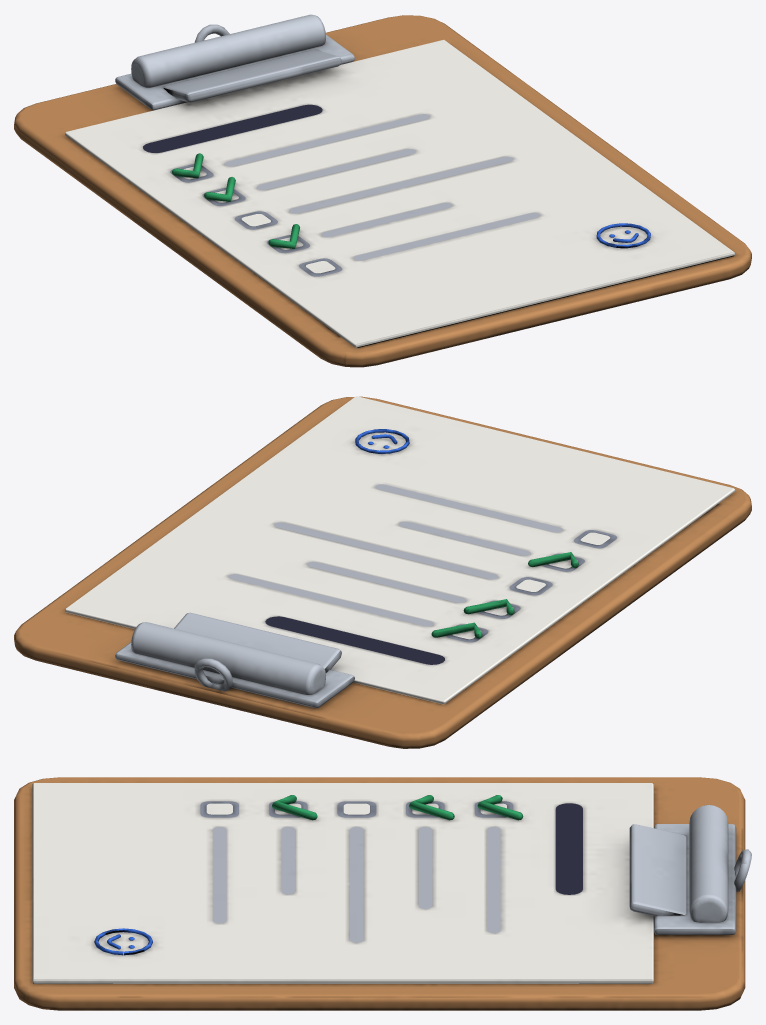
File: clipboard.glb
The picture shows the model from 3 angles, top to bottom: view 1: azimuth 30°, elevation 25°; view 2: azimuth 150°, elevation 25°; view 3: azimuth 270°, elevation 25°; orthographic projection. The views are drawn at different scales.
Parts seen in each view (by area): view 1: clipboard; view 2: clipboard; view 3: clipboard.
Boxes of the visible parts, x1,y1,x2,y2 form: clipboard: (14, 14, 751, 367); clipboard: (14, 396, 751, 748); clipboard: (14, 777, 751, 1010).
Size of the model in its own units: 0.23 by 0.0255 by 0.3229.
8 materials, 8 textured.
